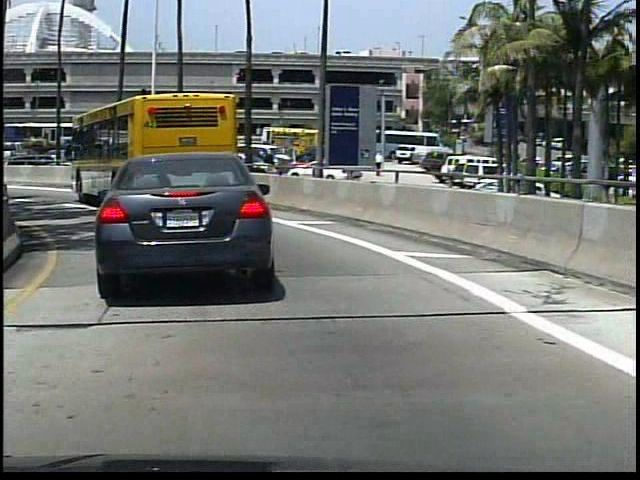person: (261, 147, 276, 179), (371, 149, 386, 179)
